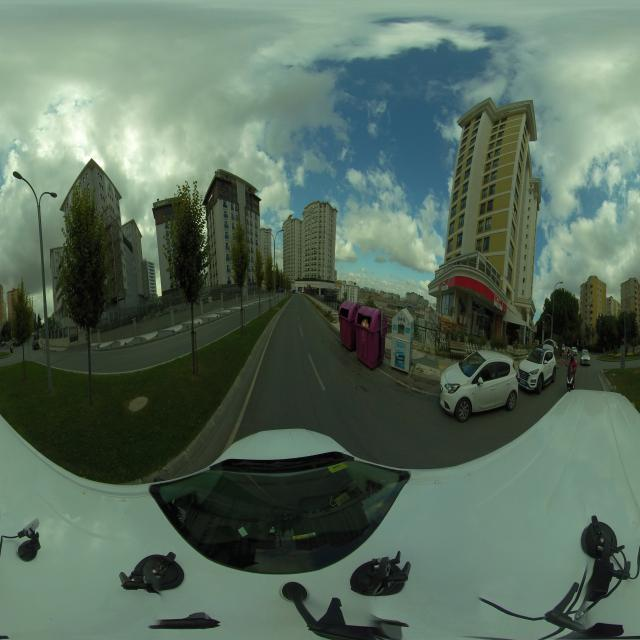SignStore: (493, 292, 503, 310), (441, 277, 449, 291)
